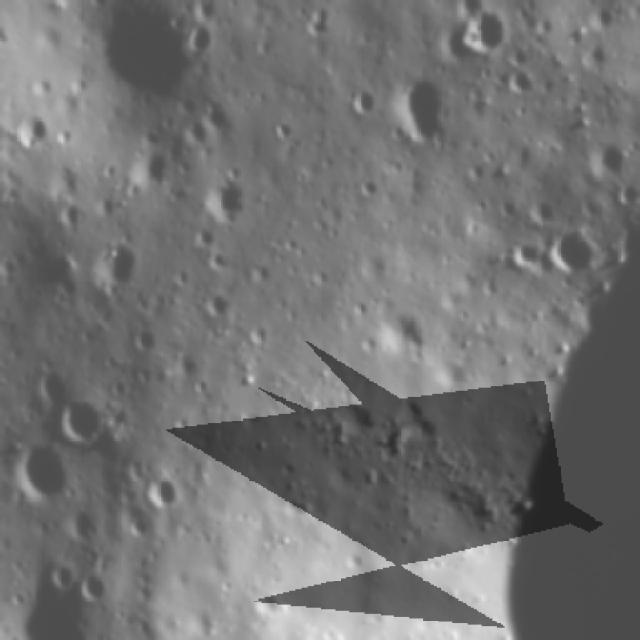crater: (81, 0, 208, 106), (0, 578, 92, 639), (393, 67, 449, 156), (5, 437, 78, 503), (91, 228, 143, 295), (456, 4, 516, 58), (199, 169, 253, 226), (547, 222, 598, 276), (377, 304, 431, 354), (60, 394, 109, 448), (143, 468, 191, 514), (586, 137, 636, 181), (127, 142, 175, 186), (12, 104, 51, 150), (503, 236, 546, 270), (35, 365, 73, 403), (523, 192, 562, 228), (304, 1, 336, 44), (44, 557, 81, 594), (80, 568, 114, 606), (348, 79, 378, 121), (181, 22, 214, 59), (504, 60, 533, 97), (131, 322, 163, 352), (451, 0, 491, 17)
